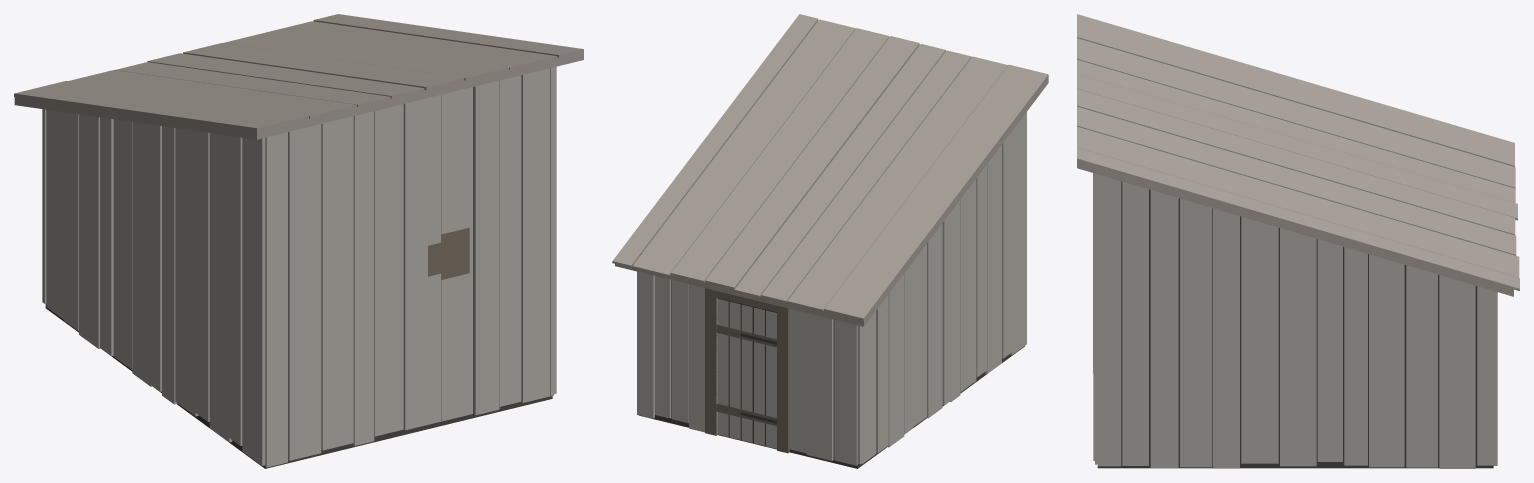
Rendered from recon_1835_blk_washington_market_a4_12__inferred_1835.glb.
3 renders of one model, left to right at view 1: azimuth 30°, elevation 25°; view 2: azimuth 150°, elevation 25°; view 3: azimuth 270°, elevation 25°, orthographic. The views are drawn at different scales.
Parts seen in each view (by area): view 1: recon_1835_blk_washington_market_a4_12__inferred_1835; view 2: recon_1835_blk_washington_market_a4_12__inferred_1835; view 3: recon_1835_blk_washington_market_a4_12__inferred_1835.
Part boxes in pixels (x1=…): recon_1835_blk_washington_market_a4_12__inferred_1835: x1=14, y1=14, x2=583, y2=468; recon_1835_blk_washington_market_a4_12__inferred_1835: x1=612, y1=14, x2=1048, y2=468; recon_1835_blk_washington_market_a4_12__inferred_1835: x1=1077, y1=14, x2=1519, y2=468.
Size of the model in its own units: 3.54 by 3.66 by 4.61.
